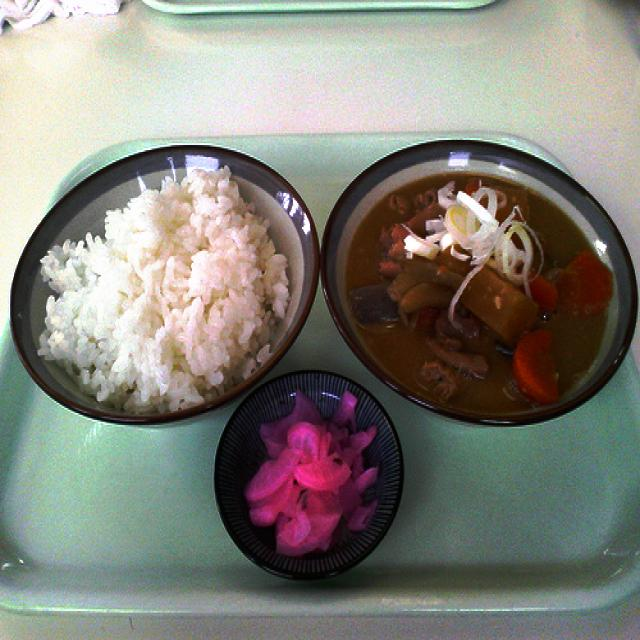curry: (352, 175, 614, 417)
rice: (35, 164, 289, 411)
